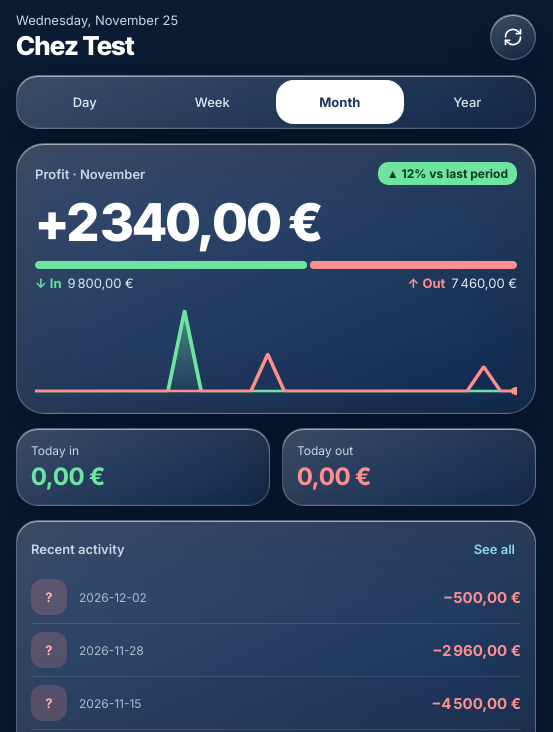
Test: period control switches to Day and the badge hides when there is no previous data
Click the button "Day". click: (85, 102)
box: [21,80,148,124]
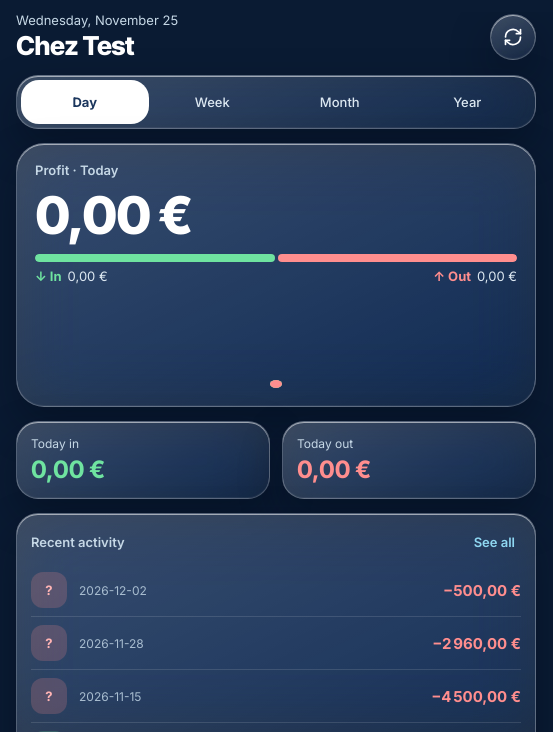
Expected: the text "vs last period" is gone
